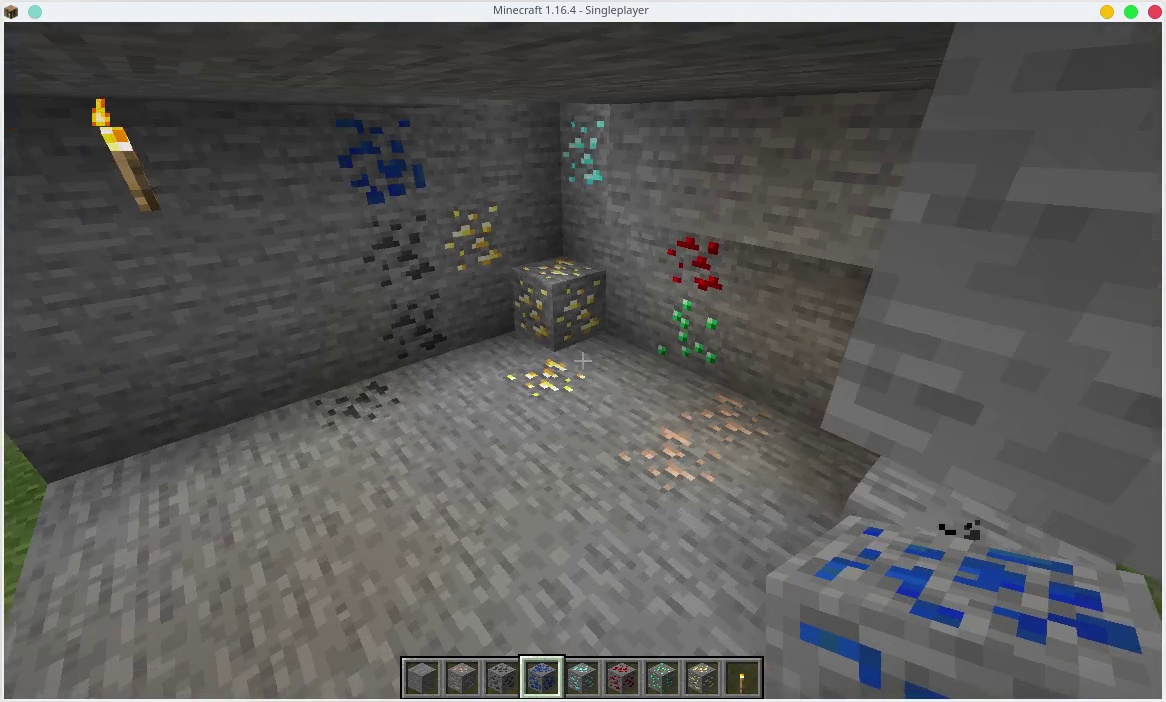gold: (512, 258, 611, 349), (437, 202, 507, 271), (503, 355, 587, 411), (685, 660, 718, 693)
